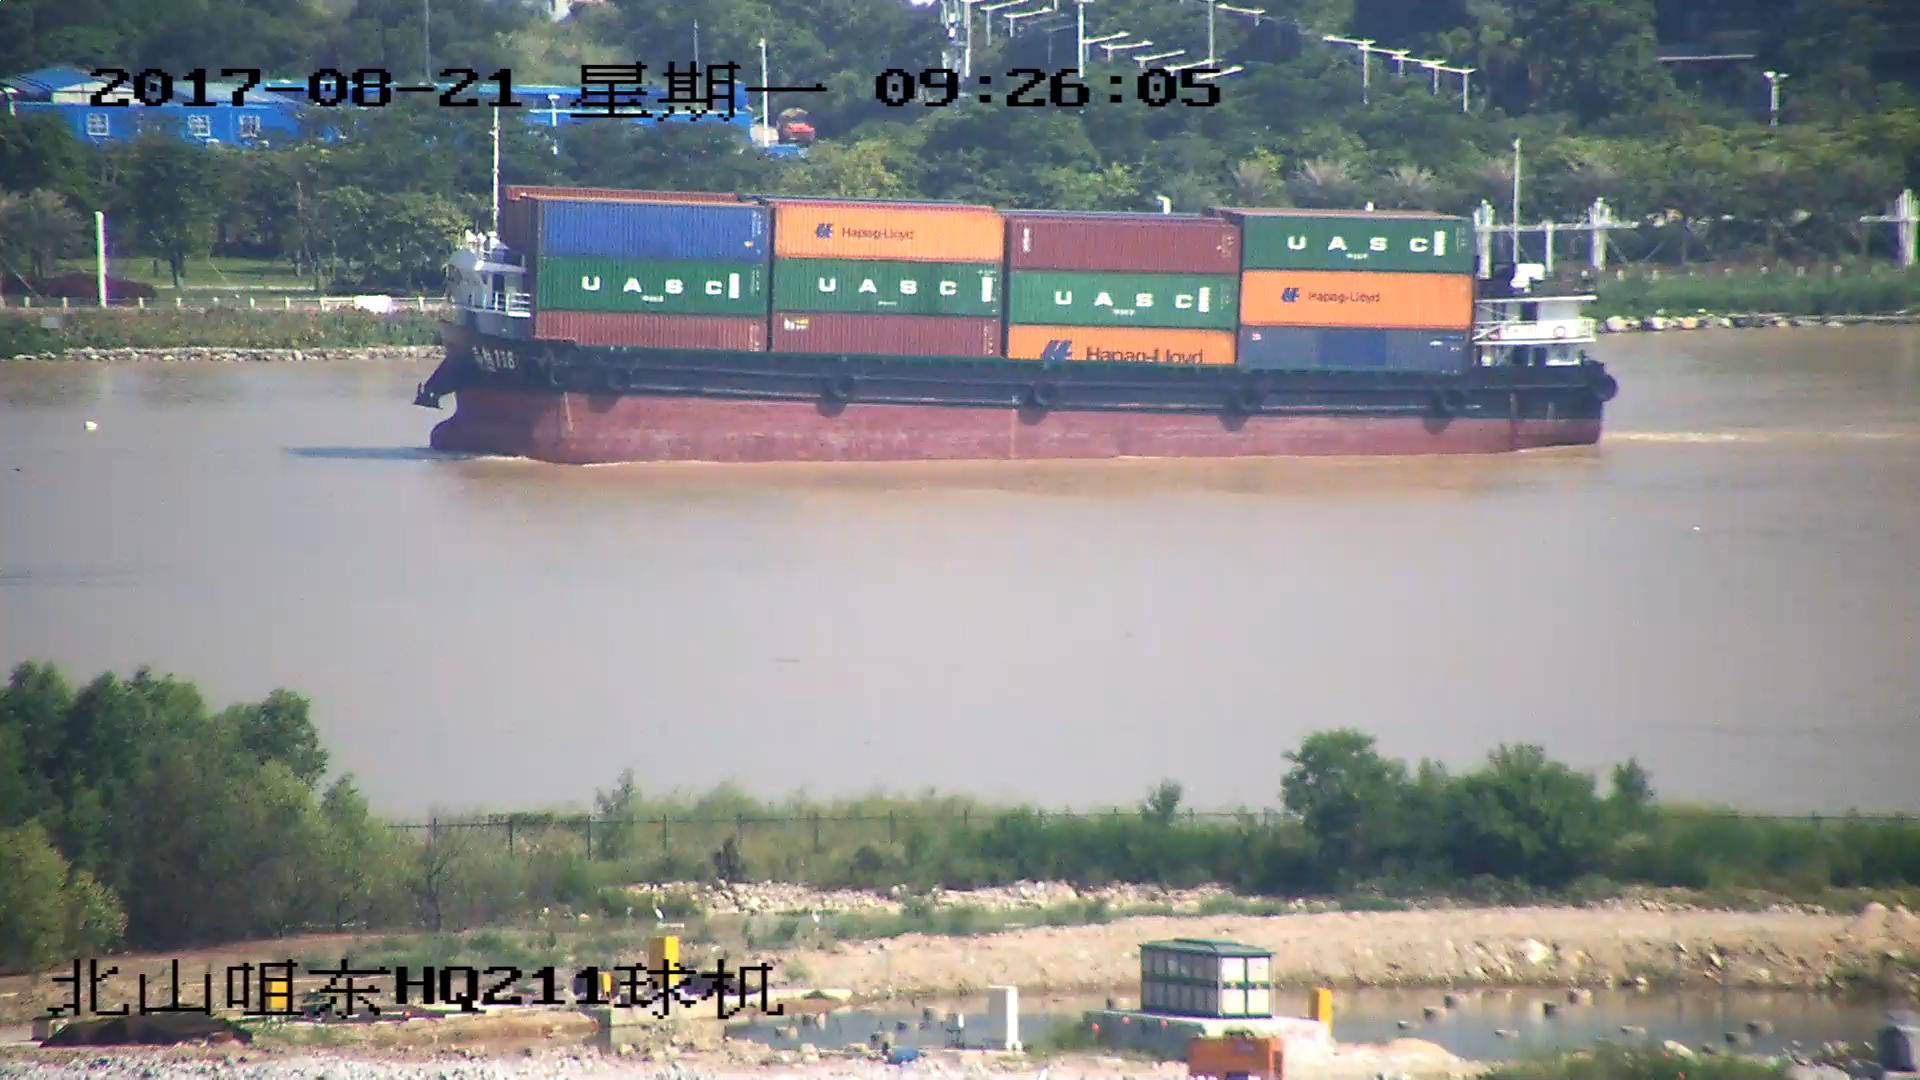container ship: (407, 123, 1619, 467)
